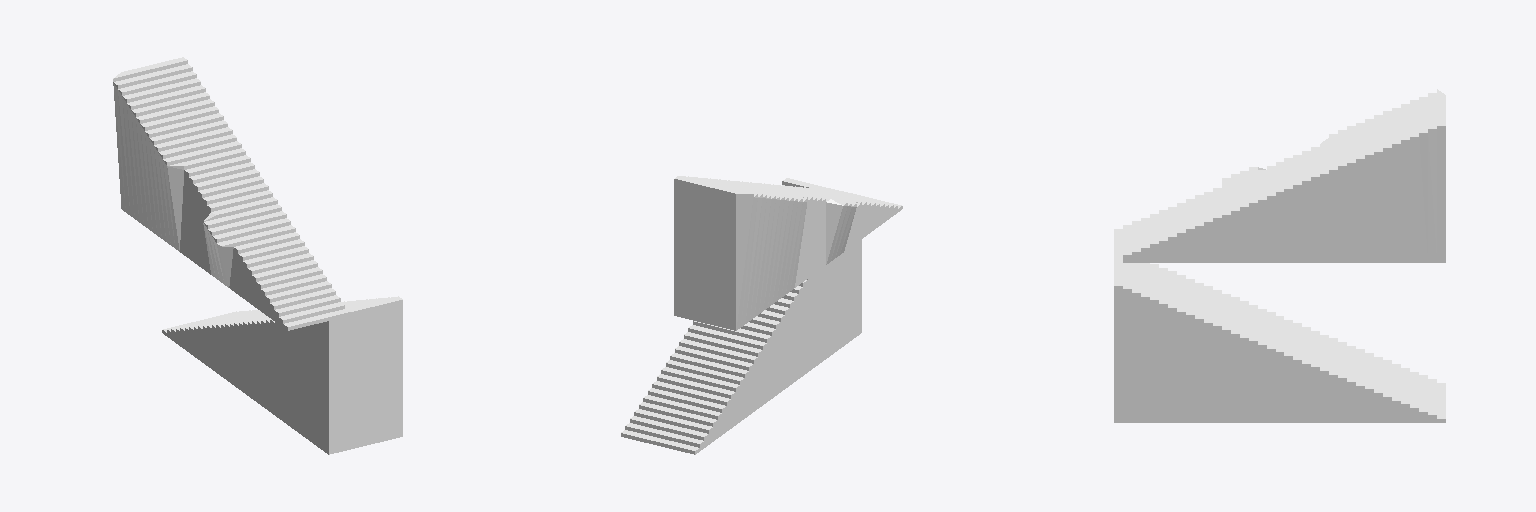
Rendered from Stairs (1).obj.
The picture shows the model from 3 angles: view 1: azimuth 30°, elevation 25°; view 2: azimuth 150°, elevation 25°; view 3: azimuth 270°, elevation 25°; orthographic projection.
Parts seen in each view (by area): view 1: Stairs (1); view 2: Stairs (1); view 3: Stairs (1).
Part boxes in pixels (x1,y1,x2,y2): Stairs (1): (113, 57, 402, 454); Stairs (1): (621, 176, 902, 454); Stairs (1): (1114, 89, 1445, 422).
Bounding box in the file's own units: 12.03 × 24.3 × 27.